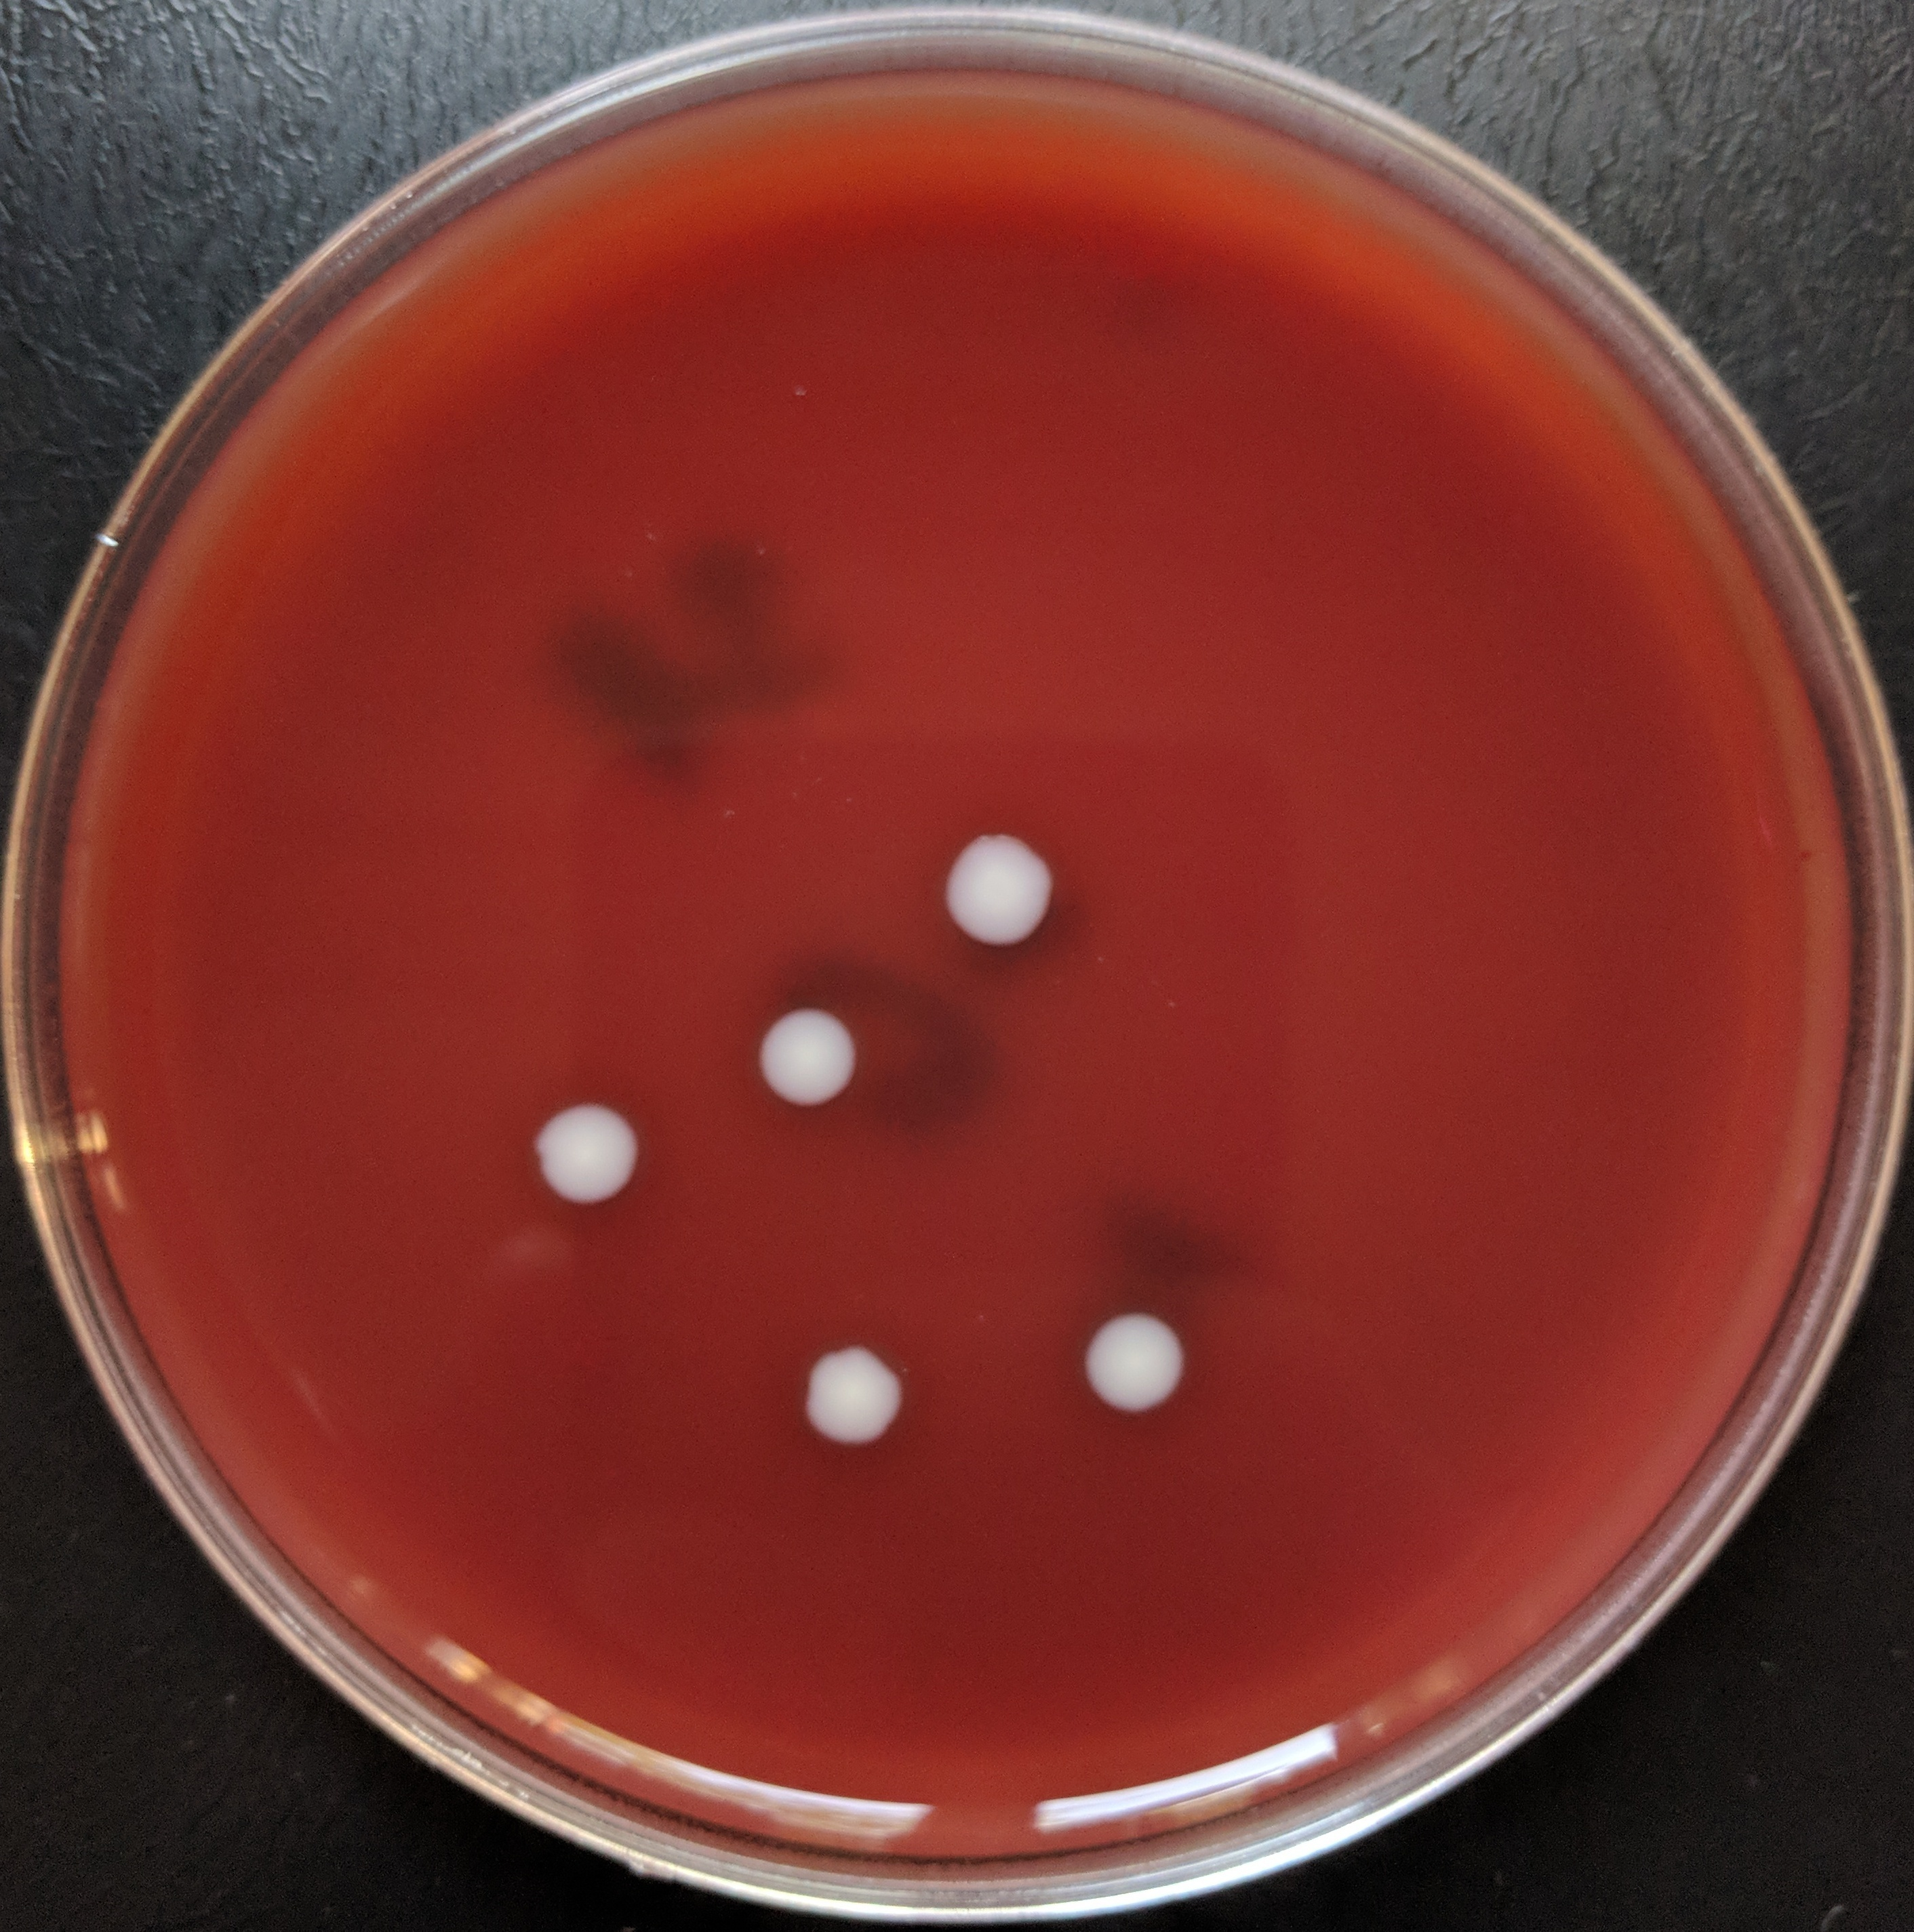sp03: (932, 819, 1083, 968), (776, 1331, 938, 1460), (1074, 1301, 1218, 1438), (526, 1089, 661, 1217), (757, 989, 864, 1124)
